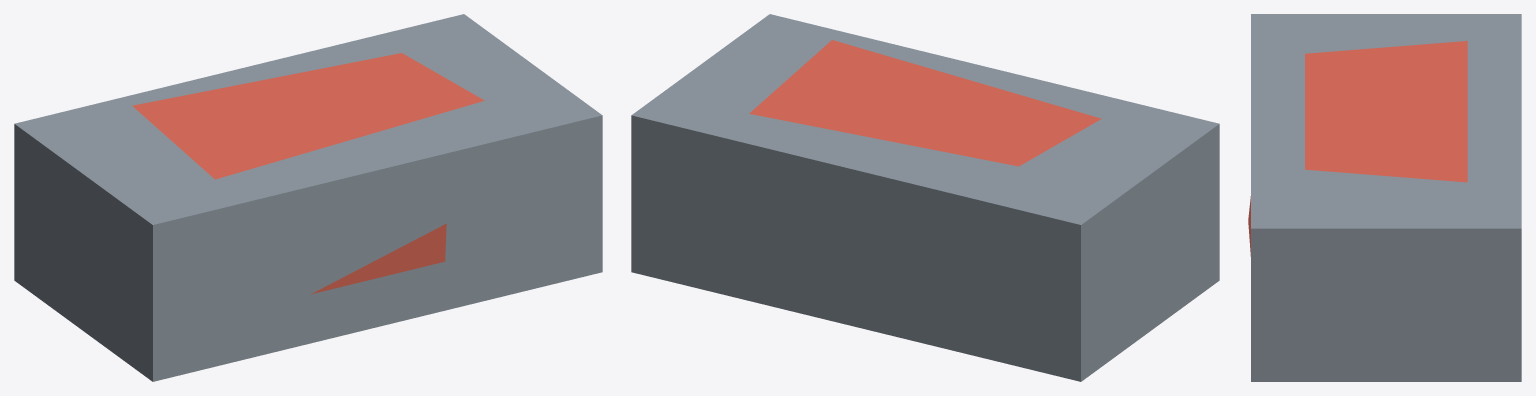
Rendered from SU_ZarevoMLRS_LOD1.glb.
3 renders of one model, left to right at view 1: azimuth 30°, elevation 25°; view 2: azimuth 150°, elevation 25°; view 3: azimuth 270°, elevation 25°, orthographic. The views are drawn at different scales.
Visible parts, largest first — view 1: EntranceGate; view 2: EntranceGate; view 3: EntranceGate.
Part boxes in pixels (bbox=[...]): EntranceGate: bbox=[14, 14, 602, 381]; EntranceGate: bbox=[631, 14, 1219, 381]; EntranceGate: bbox=[1248, 14, 1521, 381].
Bounding box in the file's own units: 600 × 221 × 323.
